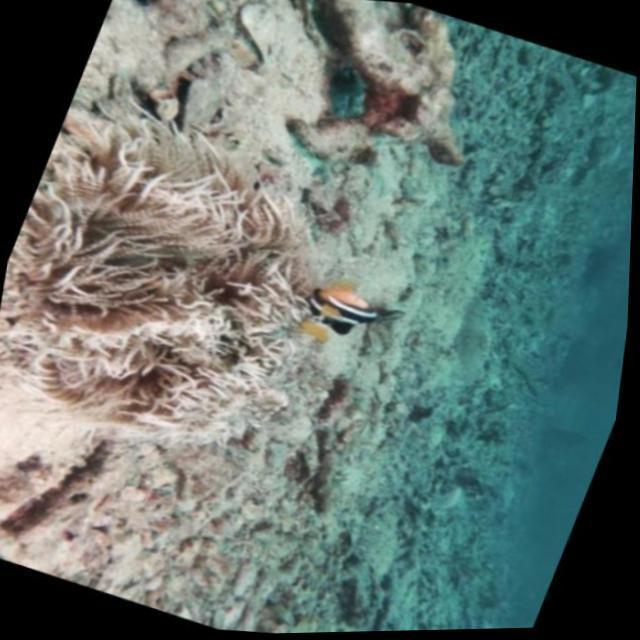Dead Coral: (231, 0, 553, 218), (33, 429, 307, 639)
